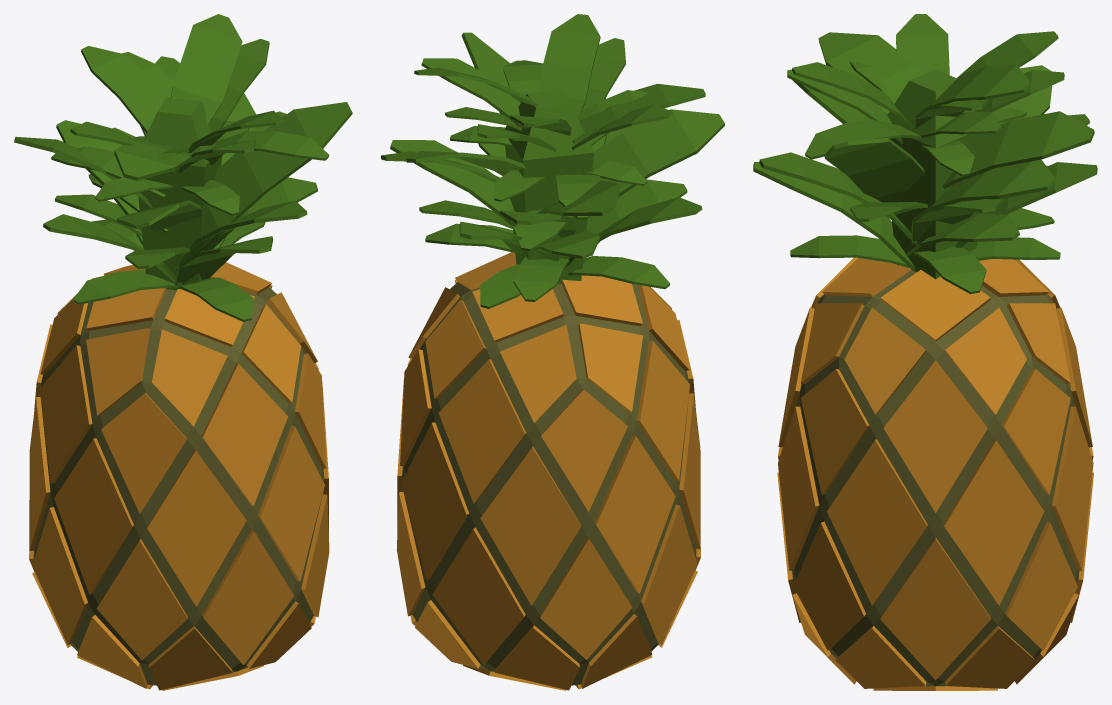
Rendered from pinapple.glb.
3 renders of one model, left to right at view 1: azimuth 30°, elevation 25°; view 2: azimuth 150°, elevation 25°; view 3: azimuth 270°, elevation 25°, orthographic. The views are drawn at different scales.
Parts seen in each view (by area): view 1: Cube.004; view 2: Cube.004; view 3: Cube.004.
Boxes of the visible parts, x1,y1,x2,y2 form: Cube.004: (14,14,352,690); Cube.004: (381,14,724,690); Cube.004: (753,14,1097,690).
Bounding box in the file's own units: 2.22 × 4.63 × 2.28.
